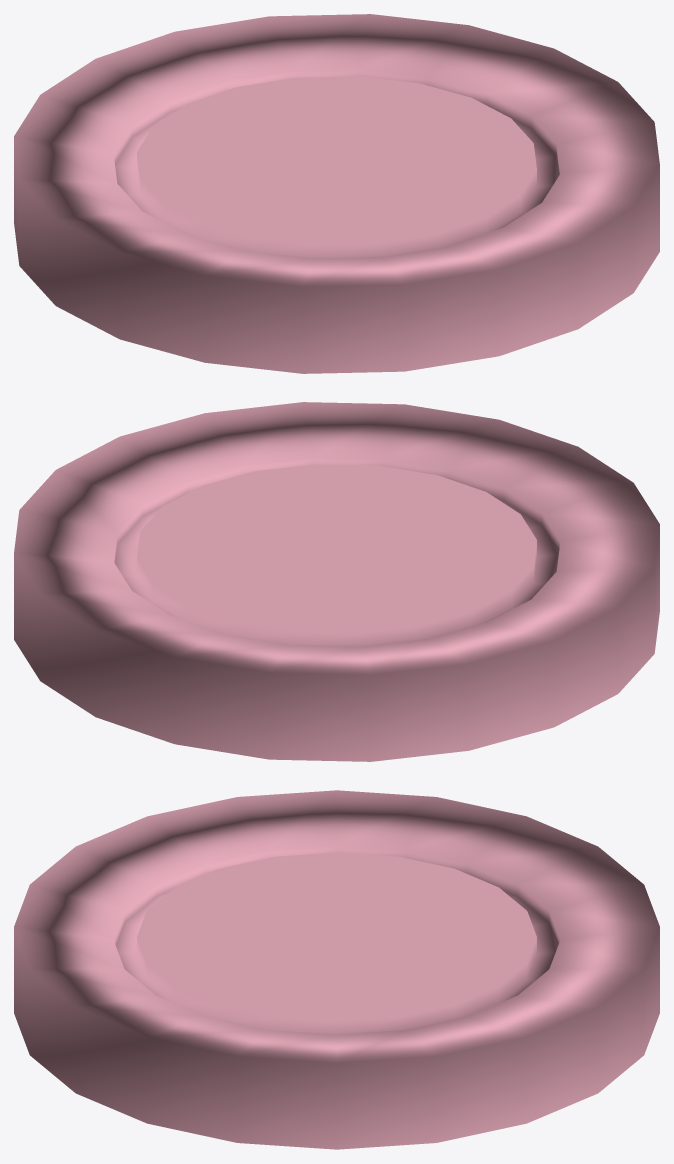
Rendered from PokerChip.fbx.
3 renders of one model, top to bottom at view 1: azimuth 30°, elevation 25°; view 2: azimuth 150°, elevation 25°; view 3: azimuth 270°, elevation 25°, orthographic.
Visible parts, largest first — view 1: PokerChip; view 2: PokerChip; view 3: PokerChip.
Boxes of the visible parts, bbox=[...] form: PokerChip: bbox=[14, 14, 659, 373]; PokerChip: bbox=[14, 402, 659, 761]; PokerChip: bbox=[14, 790, 659, 1149].
Bounding box in the file's own units: 5.71 × 0.8416 × 5.71.
